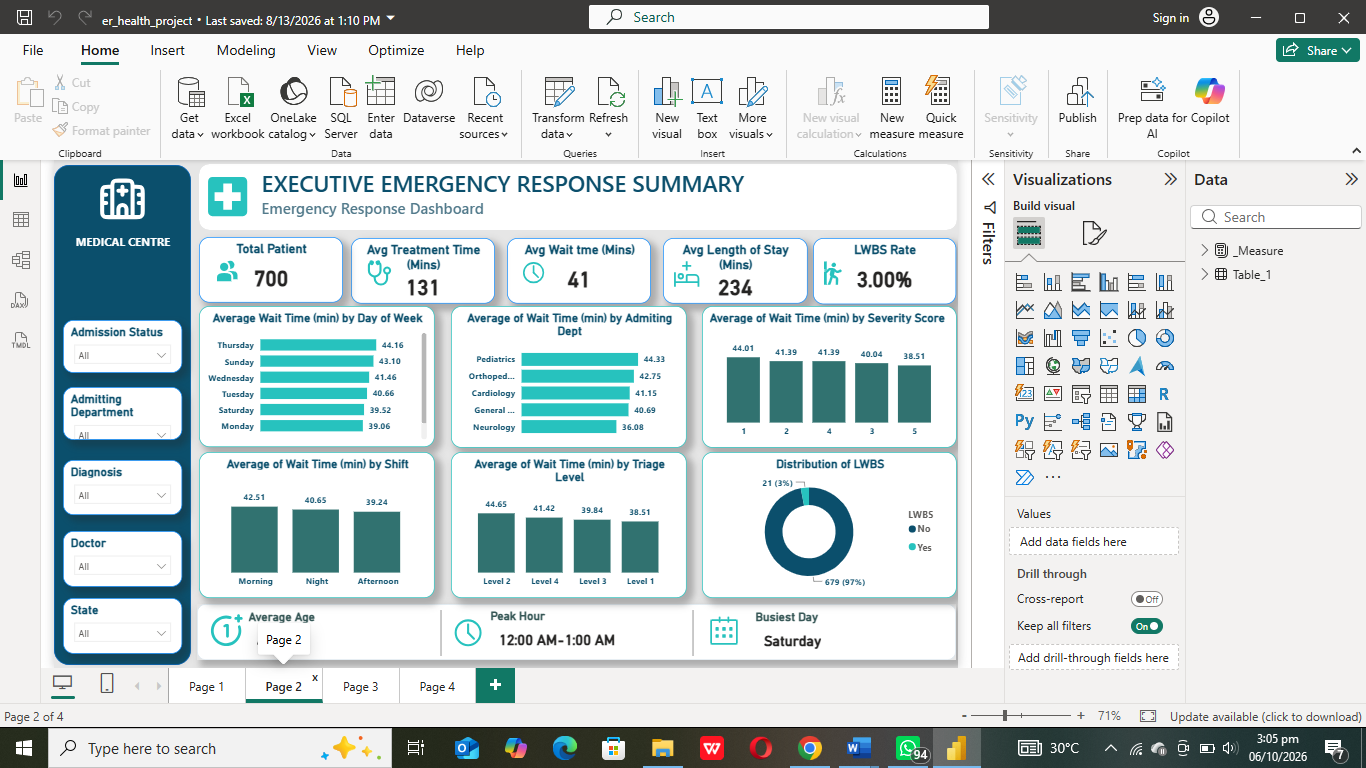

This screenshot's page, from the dashboard's own definition file:
{"tool":"powerbi","page":{"name":"Page 2","canvas":[1280,720],"ordinal":1},"visuals":[{"type":"group","id":"g1","title":"Group 1","box":[0,5.9,1279.5,710.2],"z":0},{"type":"shape","box":[205.1,5.9,1074.3,93.7],"z":0,"group":"g7"},{"type":"shape","box":[0,7.5,194.2,708.7],"z":0,"group":"g1"},{"type":"shape","box":[202.7,629.3,1075.7,79.4],"z":0,"group":"g5"},{"type":"textbox","box":[289.1,5.7,959.5,93.5],"z":1000},{"type":"group","id":"g2","title":"Group 6","box":[204.9,5.9,1074.5,198.2],"z":1000,"group":"g1"},{"type":"slicer","title":"Admission Status","fields":{"Values":["Table_1.Admission Status"]},"box":[12.8,226.8,168.7,75.1],"z":1000},{"type":"shape","box":[541.4,637.8,14.2,65.2],"z":1000,"group":"g6"},{"type":"image","box":[870.2,136,53.9,51],"z":2000,"group":"g1"},{"type":"slicer","title":"Admitting Department","fields":{"Values":["Table_1.Admiting Dept"]},"box":[12.8,321.7,168.7,75.1],"z":2000},{"type":"shape","box":[895.7,637.8,19.9,65.2],"z":2000,"group":"g6"},{"type":"slicer","title":"Doctor","fields":{"Values":["Table_1.Doctor"]},"box":[12.8,525.8,168.7,79.4],"z":3000},{"type":"cardVisual","title":"Average Age","fields":{"Data":["_Measure.Avg AGE"]},"box":[271,637.8,123.8,60.9],"z":3000,"group":"g6"},{"type":"slicer","title":"State","fields":{"Values":["Table_1.State"]},"box":[12.8,620.8,168.7,79.4],"z":4000},{"type":"cardVisual","title":"Peak Hour","fields":{"Data":["_Measure.Peak hour"]},"box":[613.9,636.4,224.8,60.9],"z":4000,"group":"g6"},{"type":"slicer","title":"Diagnosis","fields":{"Values":["Table_1.Diagnosis"]},"box":[12.8,425.2,168.7,78],"z":5000},{"type":"cardVisual","title":"Busiest Day","fields":{"Data":["_Measure.Busiest day"]},"box":[989.6,637.8,259,60.9],"z":5000,"group":"g6"},{"type":"group","id":"g3","title":"Group 3","box":[204.9,109.2,1073,95],"z":5001,"group":"g2"},{"type":"card","title":"Avg Wait tme (Mins)","fields":{"Values":["_Measure.Average_waittime"]},"box":[641.5,110.9,203.9,92.8],"z":6000,"group":"g3"},{"type":"image","box":[656.2,126.1,46.8,66.6],"z":6000},{"type":"card","title":"Avg Length of Stay (Mins)","fields":{"Values":["_Measure.avg length of stay"]},"box":[862.6,110,204.5,93.2],"z":7000,"group":"g3"},{"type":"image","box":[205.5,123.3,80.8,68],"z":7000},{"type":"group","id":"g4","title":"Group 5","box":[1080.3,138.6,45.4,42.5],"z":7000,"group":"g2"},{"type":"image","box":[1080.3,138.6,45.4,42.5],"z":7002,"group":"g4"},{"type":"card","title":"Avg Treatment Time (Mins)","fields":{"Values":["_Measure.Avg treatment time"]},"box":[420.3,110.9,203.9,93.2],"z":8000,"group":"g3"},{"type":"image","box":[430.9,129,60.9,62.4],"z":8000},{"type":"textbox","box":[19.8,99.2,155.9,42.5],"z":9000},{"type":"card","title":"Total Patient","fields":{"Values":["_Measure.Total Patient"]},"box":[204.9,109.2,203.9,93.2],"z":9000,"group":"g3"},{"type":"group","id":"g5","title":"Group 7","box":[202.7,629.3,1075.7,79.4],"z":10000},{"type":"image","box":[558.4,640.6,56.7,59.5],"z":11000},{"type":"image","box":[924.1,642,51,49.6],"z":12000},{"type":"image","box":[42.5,15.6,109.1,79.4],"z":13000},{"type":"card","title":"LWBS Rate","fields":{"Values":["_Measure.LWBS Rate"]},"box":[1075.2,110.4,202.7,93.5],"z":13000,"group":"g3"},{"type":"group","id":"g6","title":"Group 8","box":[271,636.4,977.6,66.6],"z":13005,"group":"g5"},{"type":"image","box":[204.1,9.9,83.6,83.6],"z":14000},{"type":"image","box":[215.4,637.8,56.7,59.5],"z":15000},{"type":"group","id":"g7","title":"Group 2","box":[205.1,5.9,1074.3,93.7],"z":15001,"group":"g2"},{"type":"clusteredBarChart","fields":{"Category":["Table_1.Admiting Dept"],"Y":["Avg(Table_1.Wait Time (min))"]},"box":[562.7,206.9,334.5,201.3],"z":16000},{"type":"columnChart","fields":{"Category":["Table_1.Severity Score"],"Y":["Avg(Table_1.Wait Time (min))"]},"box":[918.4,206.9,361.4,201.3],"z":17000},{"type":"clusteredBarChart","title":"Average  Wait Time (min) by Day of Week","fields":{"Category":["Table_1.Day of Week"],"Y":["Avg(Table_1.Wait Time (min))"]},"box":[205.9,207.4,334.1,200.2],"z":18000},{"type":"columnChart","fields":{"Category":["Table_1.Triage Level"],"Y":["Avg(Table_1.Wait Time (min))"]},"box":[562.7,413.9,334.5,206.9],"z":19000},{"type":"donutChart","title":"Distribution of LWBS","fields":{"Category":["Table_1.LWBS"],"Y":["CountNonNull(Table_1.LWBS)"]},"box":[918.4,413.9,361.4,206.9],"z":20000},{"type":"columnChart","fields":{"Y":["Avg(Table_1.Wait Time (min))"],"Category":["Table_1.Shift"]},"box":[205.5,413.9,334.5,206.9],"z":21000}]}

Visuals, with their boxes on the page's 1280x720 design canvas (x1, y1, x2, y2). These are canvas units, not pixel positions in the 1366x768 screenshot, which may show the page scaled, cropped or inside an application window:
"Group 1" group: pyautogui.locateOnScreen(0, 6, 1280, 716)
shape: pyautogui.locateOnScreen(205, 6, 1279, 100)
shape: pyautogui.locateOnScreen(0, 8, 194, 716)
shape: pyautogui.locateOnScreen(203, 629, 1278, 709)
textbox: pyautogui.locateOnScreen(289, 6, 1249, 99)
"Group 6" group: pyautogui.locateOnScreen(205, 6, 1279, 204)
"Admission Status" slicer: pyautogui.locateOnScreen(13, 227, 182, 302)
shape: pyautogui.locateOnScreen(541, 638, 556, 703)
image: pyautogui.locateOnScreen(870, 136, 924, 187)
"Admitting Department" slicer: pyautogui.locateOnScreen(13, 322, 182, 397)
shape: pyautogui.locateOnScreen(896, 638, 916, 703)
"Doctor" slicer: pyautogui.locateOnScreen(13, 526, 182, 605)
"Average Age" cardVisual: pyautogui.locateOnScreen(271, 638, 395, 699)
"State" slicer: pyautogui.locateOnScreen(13, 621, 182, 700)
"Peak Hour" cardVisual: pyautogui.locateOnScreen(614, 636, 839, 697)
"Diagnosis" slicer: pyautogui.locateOnScreen(13, 425, 182, 503)
"Busiest Day" cardVisual: pyautogui.locateOnScreen(990, 638, 1249, 699)
"Group 3" group: pyautogui.locateOnScreen(205, 109, 1278, 204)
"Avg Wait tme (Mins)" card: pyautogui.locateOnScreen(642, 111, 845, 204)
image: pyautogui.locateOnScreen(656, 126, 703, 193)
"Avg Length of Stay (Mins)" card: pyautogui.locateOnScreen(863, 110, 1067, 203)
image: pyautogui.locateOnScreen(206, 123, 286, 191)
"Group 5" group: pyautogui.locateOnScreen(1080, 139, 1126, 181)
image: pyautogui.locateOnScreen(1080, 139, 1126, 181)
"Avg Treatment Time (Mins)" card: pyautogui.locateOnScreen(420, 111, 624, 204)
image: pyautogui.locateOnScreen(431, 129, 492, 191)
textbox: pyautogui.locateOnScreen(20, 99, 176, 142)
"Total Patient" card: pyautogui.locateOnScreen(205, 109, 409, 202)
"Group 7" group: pyautogui.locateOnScreen(203, 629, 1278, 709)
image: pyautogui.locateOnScreen(558, 641, 615, 700)
image: pyautogui.locateOnScreen(924, 642, 975, 692)
image: pyautogui.locateOnScreen(42, 16, 152, 95)
"LWBS Rate" card: pyautogui.locateOnScreen(1075, 110, 1278, 204)
"Group 8" group: pyautogui.locateOnScreen(271, 636, 1249, 703)
image: pyautogui.locateOnScreen(204, 10, 288, 94)
image: pyautogui.locateOnScreen(215, 638, 272, 697)
"Group 2" group: pyautogui.locateOnScreen(205, 6, 1279, 100)
clusteredBarChart - Table_1.Admiting Dept x Avg(Table_1.Wait Time (min)): pyautogui.locateOnScreen(563, 207, 897, 408)
columnChart - Table_1.Severity Score x Avg(Table_1.Wait Time (min)): pyautogui.locateOnScreen(918, 207, 1280, 408)
"Average  Wait Time (min) by Day of Week" clusteredBarChart: pyautogui.locateOnScreen(206, 207, 540, 408)
columnChart - Table_1.Triage Level x Avg(Table_1.Wait Time (min)): pyautogui.locateOnScreen(563, 414, 897, 621)
"Distribution of LWBS" donutChart: pyautogui.locateOnScreen(918, 414, 1280, 621)
columnChart - Avg(Table_1.Wait Time (min)) x Table_1.Shift: pyautogui.locateOnScreen(206, 414, 540, 621)
